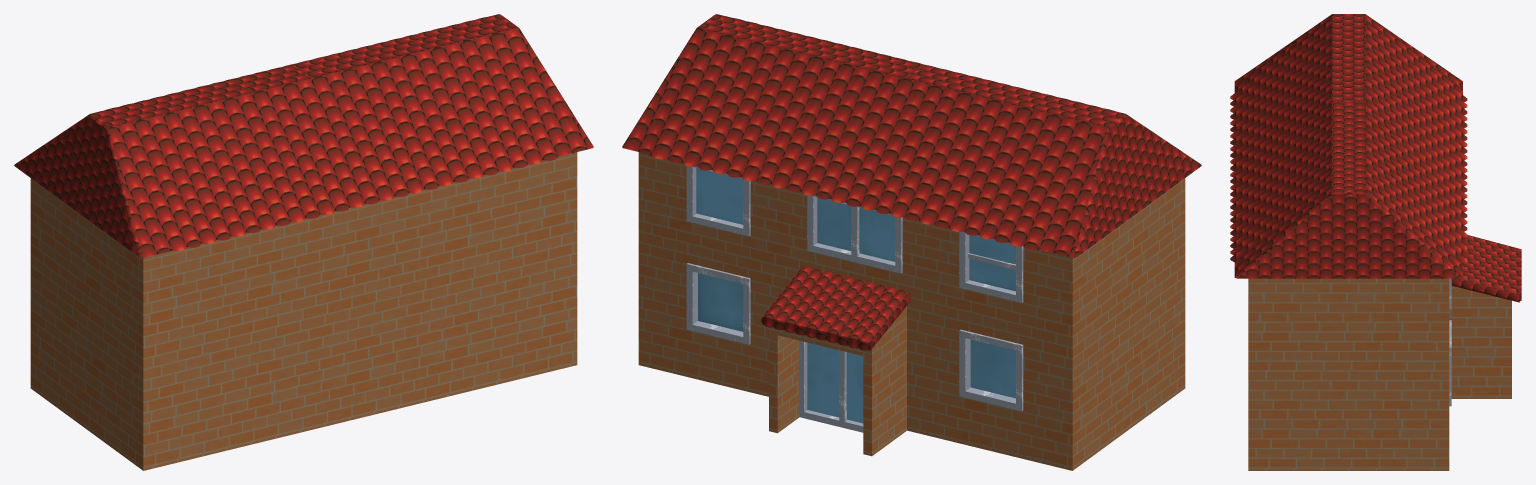
Rendered from house.fbx.
The picture shows the model from 3 angles, left to right: view 1: azimuth 30°, elevation 25°; view 2: azimuth 150°, elevation 25°; view 3: azimuth 270°, elevation 25°; orthographic projection. The views are drawn at different scales.
Visible parts, largest first — view 1: house; view 2: house; view 3: house.
Boxes of the visible parts, box(x1,y1,x2,y2) form: house: box(14, 14, 593, 470); house: box(622, 14, 1201, 470); house: box(1230, 14, 1521, 470).
Bounding box in the file's own units: 12.54 × 8.07 × 7.8.
